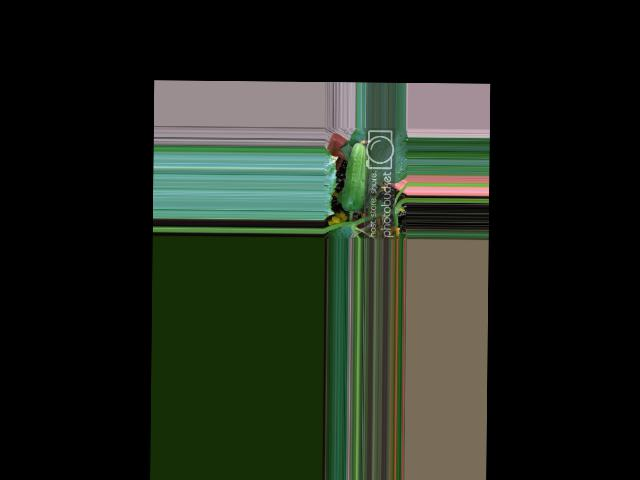cucumber: (341, 142, 370, 211)
